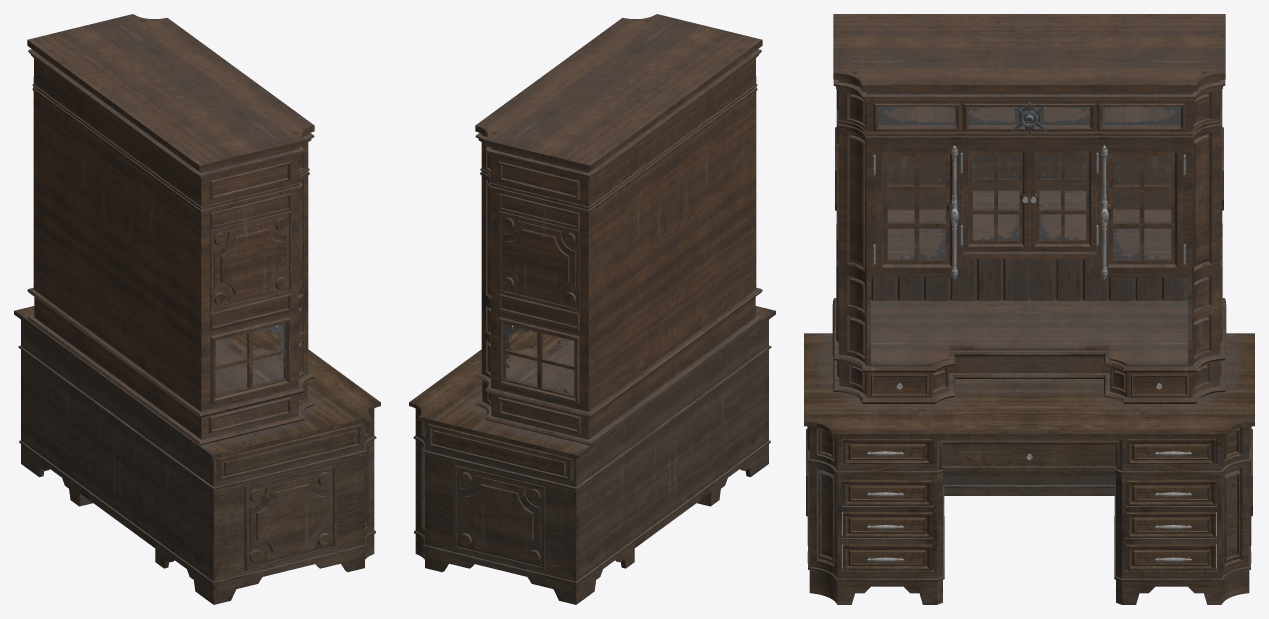
File: cupboard.fbx
The picture shows the model from 3 angles, left to right: view 1: azimuth 30°, elevation 25°; view 2: azimuth 150°, elevation 25°; view 3: azimuth 270°, elevation 25°; orthographic projection. The views are drawn at different scales.
Parts seen in each view (by area): view 1: Куб.018, tabledown_low, Куб.005; view 2: Куб.018, tabledown_low, Куб.005; view 3: Куб.018, tabledown_low, Куб.005, Куб.003, Куб.004, Куб.013, Куб.014, Куб.015, Куб.016, Куб.012, Куб.001, Куб.002 (+4 smaller).
Part boxes in pixels (x1,y1,x2,y2): Куб.018: (27, 14, 314, 410); tabledown_low: (14, 306, 380, 604); Куб.005: (27, 287, 314, 445); Куб.018: (475, 14, 762, 410); tabledown_low: (409, 306, 775, 604); Куб.005: (475, 287, 762, 445); Куб.018: (833, 14, 1225, 364); tabledown_low: (804, 333, 1254, 604); Куб.005: (832, 298, 1226, 403); Куб.003: (1101, 146, 1183, 273); Куб.004: (875, 146, 957, 273); Куб.013: (939, 440, 1119, 469); Куб.014: (842, 544, 1216, 570); Куб.015: (842, 480, 1216, 505); Куб.016: (842, 512, 1216, 537); Куб.012: (843, 439, 1215, 464); Куб.001: (1029, 146, 1095, 251); Куб.002: (963, 146, 1029, 251).
Size of the model in its own units: 132 by 301 by 249.
